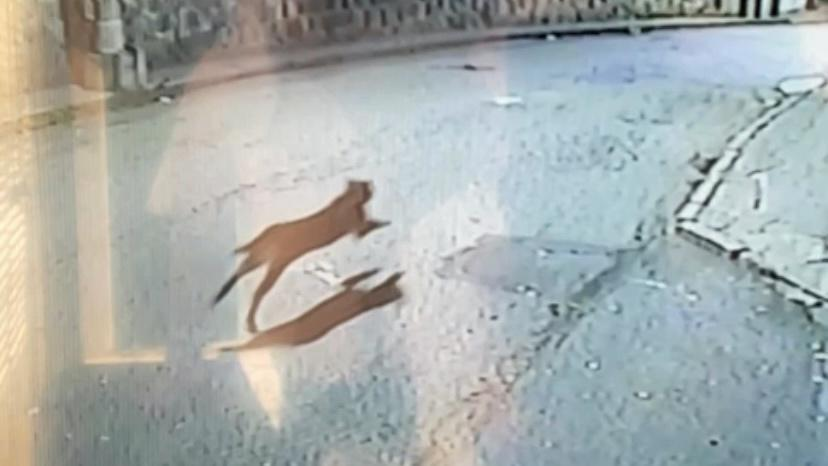OncaParda: (205, 177, 398, 339)
